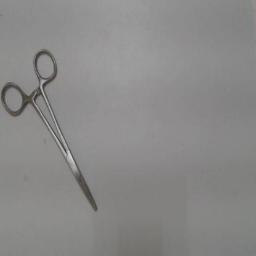Mayo Needle Holder: (1, 42, 105, 220)
